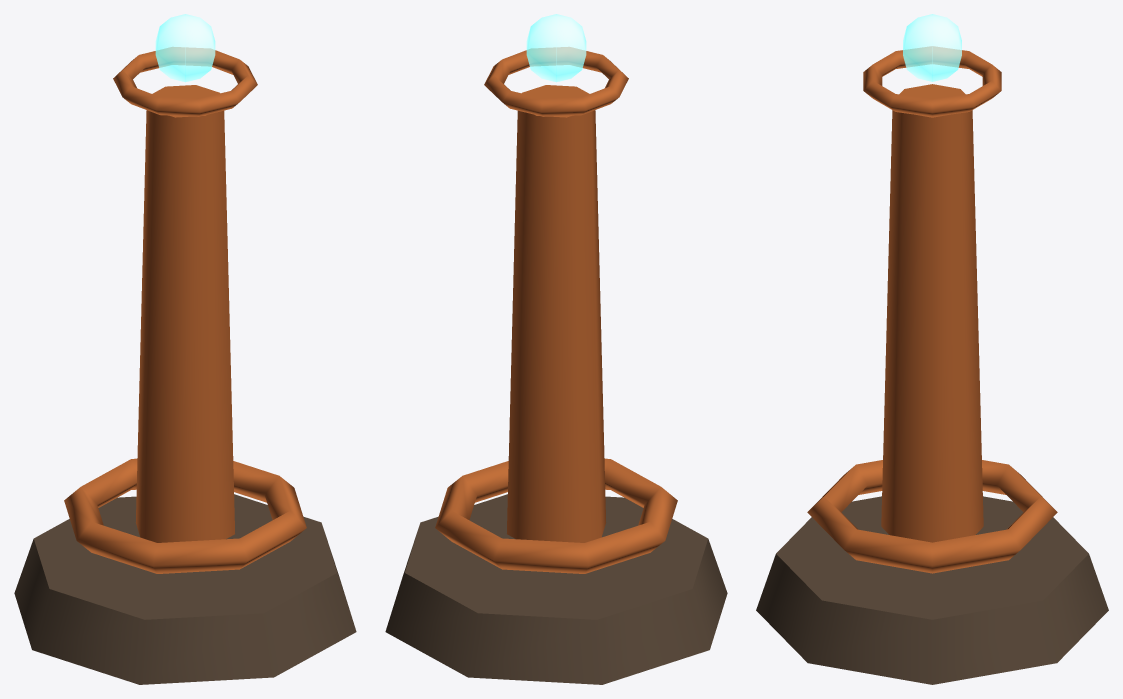
File: tesla_coil_l1.glb
3 views of the same model, side by side, from view 1: azimuth 30°, elevation 25°; view 2: azimuth 150°, elevation 25°; view 3: azimuth 270°, elevation 25° (orthographic).
Visible parts, largest first — view 1: Tesla Coil_L1, coil_secondary, coil_primary, coil_top, arc_core; view 2: Tesla Coil_L1, coil_secondary, coil_primary, coil_top, arc_core; view 3: Tesla Coil_L1, coil_secondary, coil_primary, coil_top, arc_core.
Part boxes in pixels (x1,y1,x2,y2): Tesla Coil_L1: (14,494,356,684); coil_secondary: (135,85,234,542); coil_primary: (64,458,306,573); coil_top: (113,47,257,116); arc_core: (155,14,215,82); Tesla Coil_L1: (385,494,727,684); coil_secondary: (507,85,606,542); coil_primary: (435,458,677,573); coil_top: (484,47,628,116); arc_core: (526,14,586,82); Tesla Coil_L1: (756,496,1108,684); coil_secondary: (881,84,983,542); coil_primary: (807,460,1057,573); coil_top: (863,46,1001,116); arc_core: (903,14,961,81).
Bounding box in the file's own units: 1.24 × 2.3 × 1.24.
